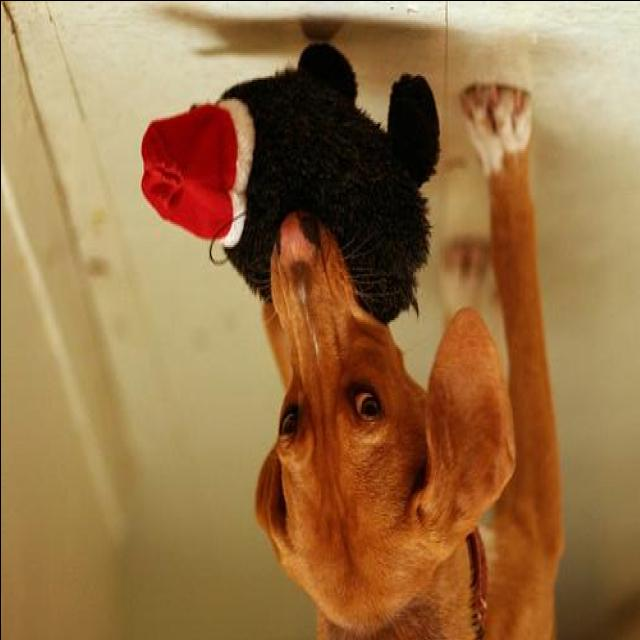vizsla: (261, 80, 562, 636)
